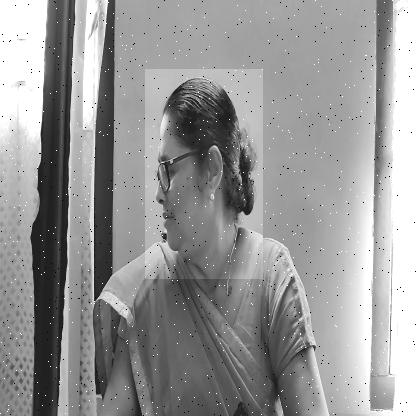Distracted: (144, 70, 262, 280)
